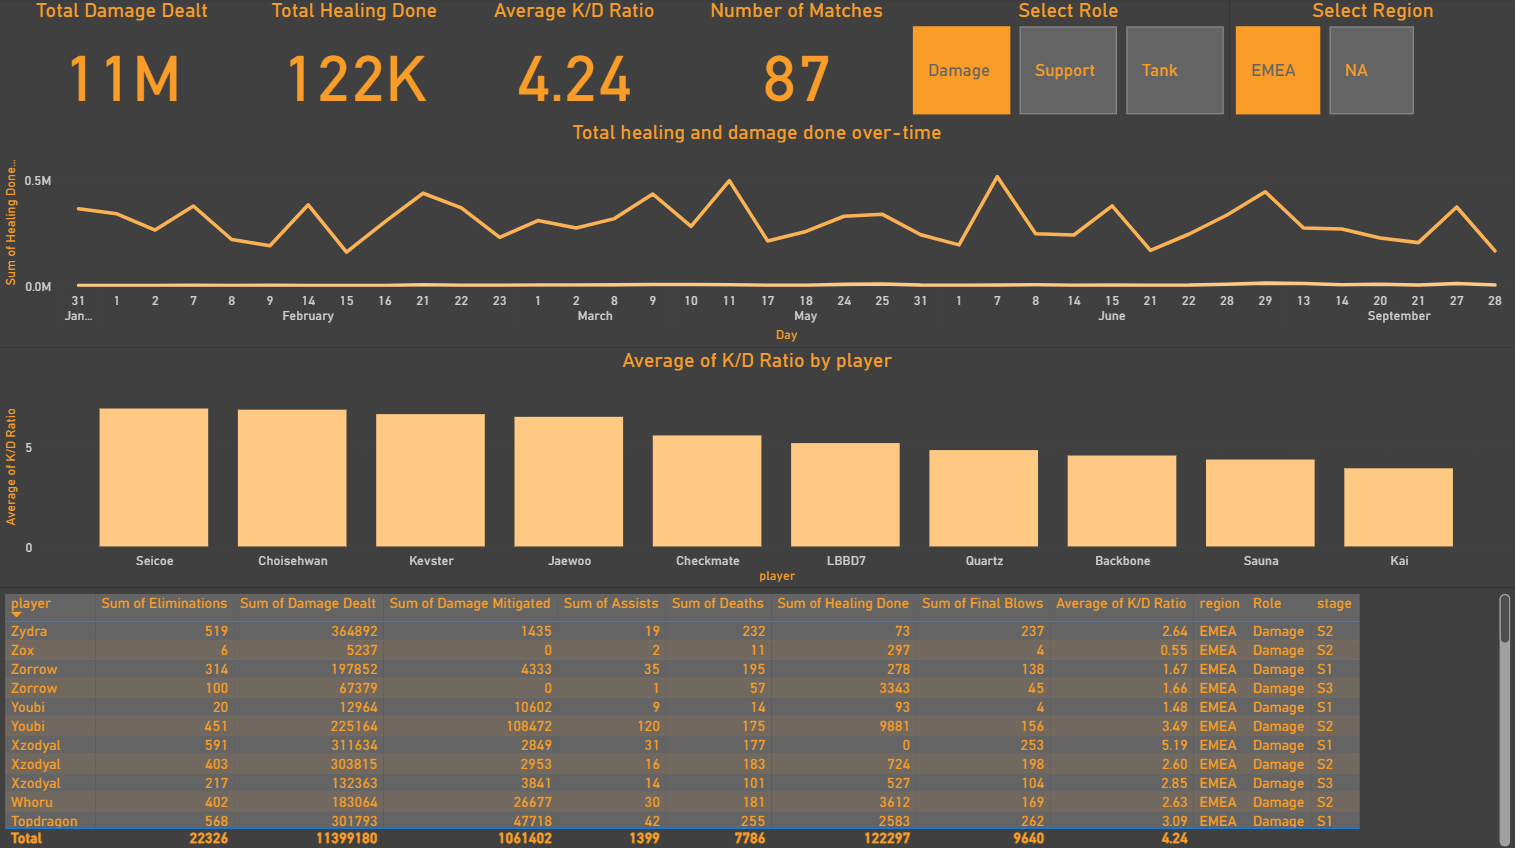

This screenshot's page, from the dashboard's own definition file:
{"tool":"powerbi","page":{"name":"Players","canvas":[1280,720],"ordinal":0},"visuals":[{"type":"card","title":"Total Damage Dealt","fields":{"Values":["faceit_all_matches_emea_na_all_stages (2).Damage Dealt"]},"box":[0,0,209.1,103.1],"z":0},{"type":"card","title":"Total Healing Done","fields":{"Values":["faceit_all_matches_emea_na_all_stages (2).Healing Done"]},"box":[209.1,0,182.9,103.1],"z":1000},{"type":"card","title":"Average K/D Ratio","fields":{"Values":["faceit_all_matches_emea_na_all_stages (2).K/D Ratio"]},"box":[392,0,187.7,103.1],"z":2000},{"type":"card","title":"Number of Matches","fields":{"Values":["faceit_all_matches_emea_na_all_stages (2).match_id"]},"box":[579.7,0,186.7,103.1],"z":3000},{"type":"lineChart","title":"Total healing and damage done over-time","fields":{"Y":["faceit_all_matches_emea_na_all_stages (2).Healing Done","faceit_all_matches_emea_na_all_stages (2).Damage Dealt"],"Category":["faceit_all_matches_emea_na_all_stages (2).match_date.Variation.Date Hierarchy.Month","faceit_all_matches_emea_na_all_stages (2).match_date.Variation.Date Hierarchy.Day"]},"box":[0,103.1,1280,191.6],"z":4000},{"type":"tableEx","fields":{"Values":["faceit_all_matches_emea_na_all_stages (2).player","faceit_all_matches_emea_na_all_stages (2).Eliminations","faceit_all_matches_emea_na_all_stages (2).Damage Dealt","faceit_all_matches_emea_na_all_stages (2).Damage Mitigated","faceit_all_matches_emea_na_all_stages (2).Assists","faceit_all_matches_emea_na_all_stages (2).Deaths","faceit_all_matches_emea_na_all_stages (2).Healing Done","faceit_all_matches_emea_na_all_stages (2).Final Blows","faceit_all_matches_emea_na_all_stages (2).K/D Ratio","faceit_all_matches_emea_na_all_stages (2).region","faceit_all_matches_emea_na_all_stages (2).Role","faceit_all_matches_emea_na_all_stages (2).stage"]},"box":[0,497,1280,222.7],"z":5000},{"type":"columnChart","fields":{"Category":["faceit_all_matches_emea_na_all_stages (2).player"],"Y":["faceit_all_matches_emea_na_all_stages (2).K/D Ratio"]},"box":[0,294.7,1280,202.3],"z":6000},{"type":"advancedSlicerVisual","title":"Select Role","fields":{"Values":["faceit_all_matches_emea_na_all_stages (2).Role"]},"box":[766.4,0,272.3,103.1],"z":7000},{"type":"advancedSlicerVisual","title":"Select Region","fields":{"Values":["faceit_all_matches_emea_na_all_stages (2).region"]},"box":[1038.8,0,241.2,103.1],"z":8000}]}

Visuals, with their boxes in screenshot pixels (x1, y1, x2, y2), scaled from the page's 1280x720 canvas onto the 1515x848 screenshot:
"Total Damage Dealt" card: 0:0:247:121
"Total Healing Done" card: 247:0:464:121
"Average K/D Ratio" card: 464:0:686:121
"Number of Matches" card: 686:0:907:121
"Total healing and damage done over-time" lineChart: 0:121:1514:347
tableEx - faceit_all_matches_emea_na_all_stages (2).player x faceit_all_matches_emea_na_all_stages (2).Eliminations: 0:585:1514:847
columnChart - faceit_all_matches_emea_na_all_stages (2).player x faceit_all_matches_emea_na_all_stages (2).K/D Ratio: 0:347:1514:585
"Select Role" advancedSlicerVisual: 907:0:1229:121
"Select Region" advancedSlicerVisual: 1230:0:1514:121
